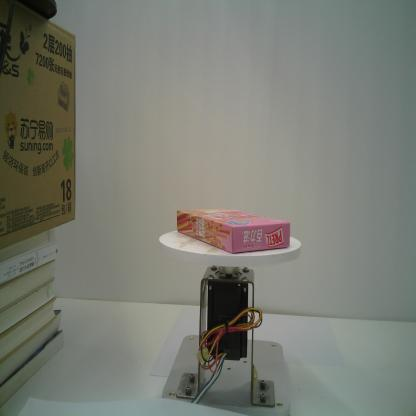Dessert: (176, 209, 291, 254)
